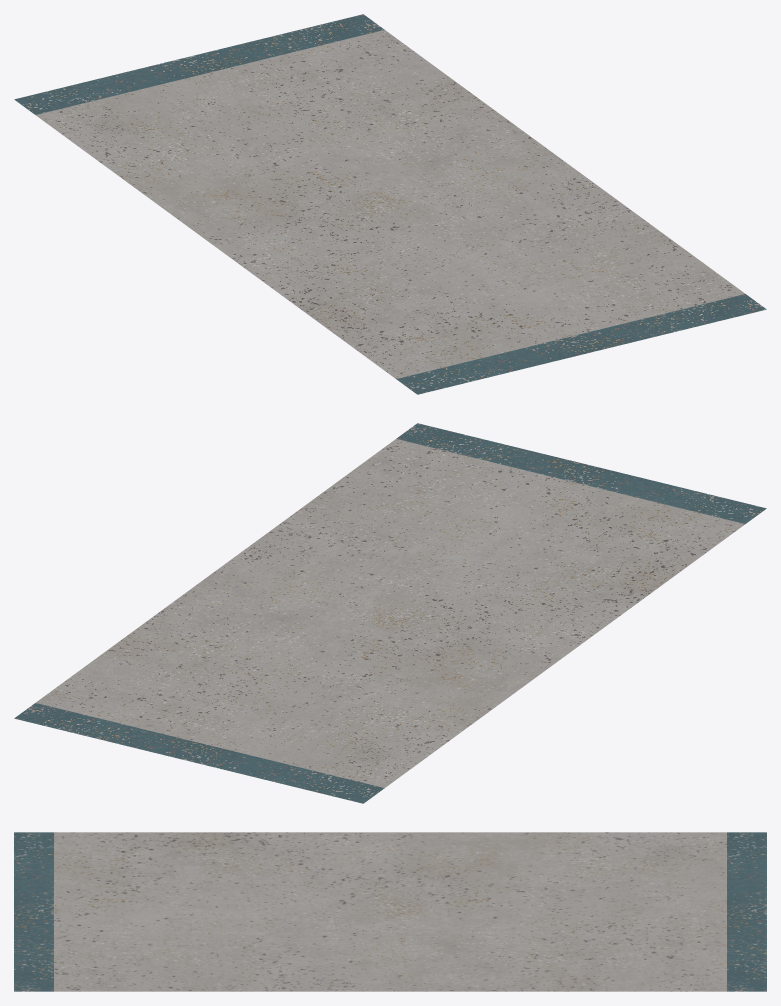
File: HH_Flooring_Concrete_2x4m_02.fbx
3 renders of one model, top to bottom at view 1: azimuth 30°, elevation 25°; view 2: azimuth 150°, elevation 25°; view 3: azimuth 270°, elevation 25°, orthographic. The views are drawn at different scales.
Visible parts, largest first — view 1: HH_Flooring_Concrete_2x4m_02; view 2: HH_Flooring_Concrete_2x4m_02; view 3: HH_Flooring_Concrete_2x4m_02.
Part boxes in pixels (left/top/right/bottom): HH_Flooring_Concrete_2x4m_02: left=14, top=14, right=766, bottom=394; HH_Flooring_Concrete_2x4m_02: left=14, top=423, right=766, bottom=803; HH_Flooring_Concrete_2x4m_02: left=14, top=832, right=766, bottom=991.
Bounding box in the file's own units: 200 × 0 × 400.
